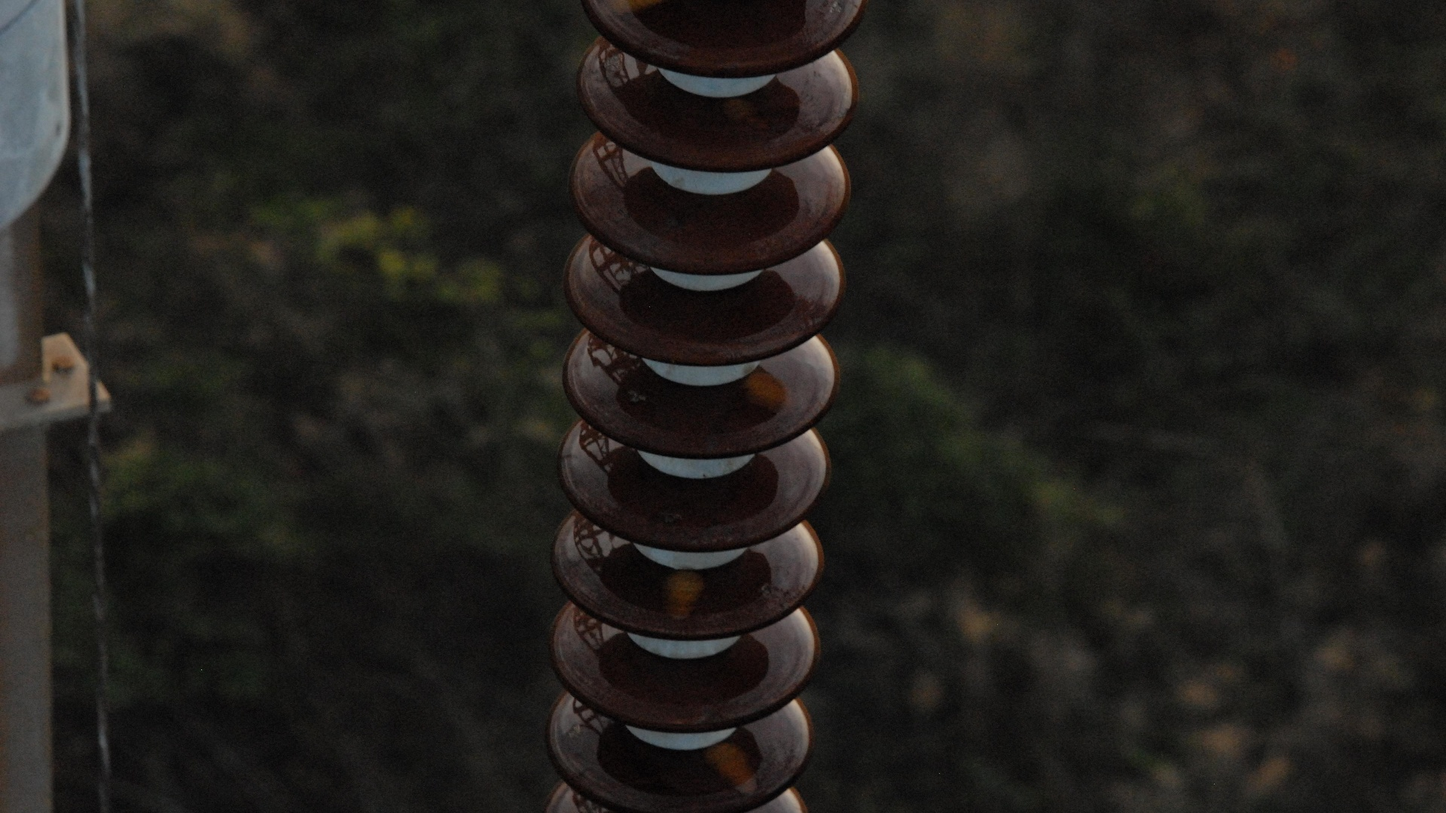insulator: (535, 1, 868, 813)
